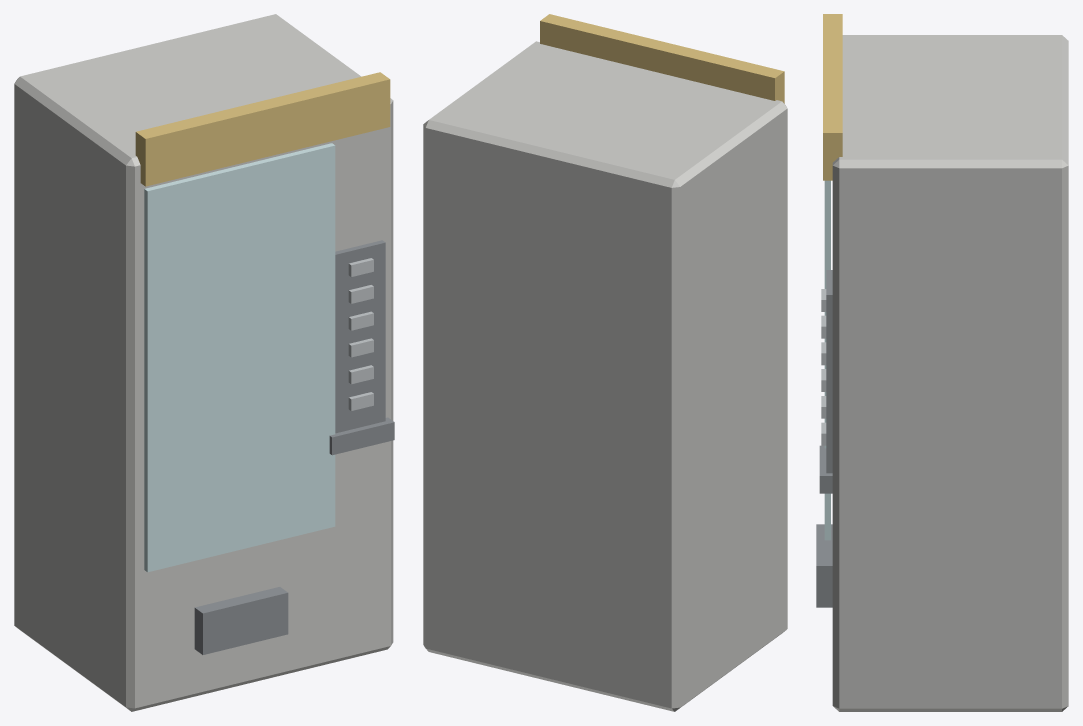
The model's file is P_vending_machine.fbx.
3 views of the same model, side by side, from view 1: azimuth 30°, elevation 25°; view 2: azimuth 150°, elevation 25°; view 3: azimuth 270°, elevation 25° (orthographic). The views are drawn at different scales.
Parts seen in each view (by area): view 1: P_vending_machine; view 2: P_vending_machine; view 3: P_vending_machine.
Part boxes in pixels (x1,y1,x2,y2): P_vending_machine: (14,14,394,711); P_vending_machine: (423,14,787,711); P_vending_machine: (816,14,1068,711).
Size of the model in its own units: 0.94 by 1.94 by 0.77.
